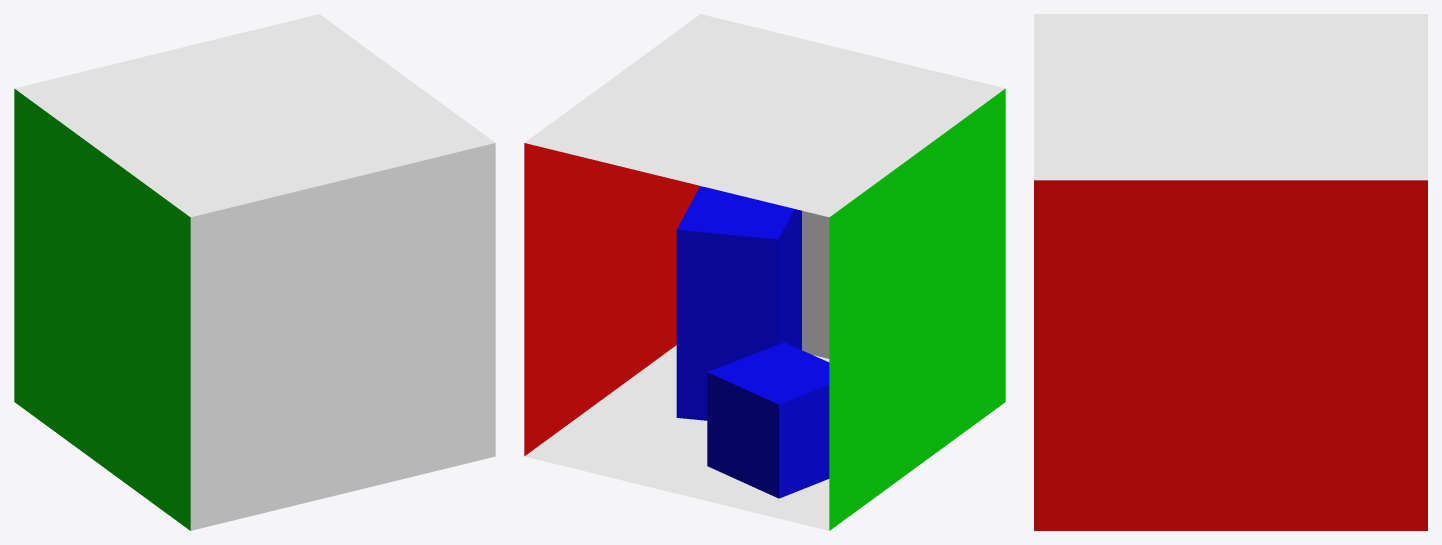
Rendered from cornell_box.obj.
3 renders of one model, left to right at view 1: azimuth 30°, elevation 25°; view 2: azimuth 150°, elevation 25°; view 3: azimuth 270°, elevation 25°, orthographic. The views are drawn at different scales.
Visible parts, largest first — view 1: back_wall, green_wall, ceiling; view 2: green_wall, ceiling, red_wall, tall_block, floor, short_block, back_wall; view 3: red_wall, ceiling.
Boxes of the visible parts, x1=… form: back_wall: x1=190, y1=143, x2=495, y2=530; green_wall: x1=14, y1=88, x2=190, y2=530; ceiling: x1=14, y1=14, x2=494, y2=217; green_wall: x1=829, y1=88, x2=1005, y2=530; ceiling: x1=525, y1=14, x2=1005, y2=217; red_wall: x1=524, y1=143, x2=700, y2=456; tall_block: x1=676, y1=186, x2=801, y2=420; floor: x1=524, y1=345, x2=829, y2=530; short_block: x1=707, y1=342, x2=829, y2=498; back_wall: x1=700, y1=186, x2=829, y2=358; red_wall: x1=1034, y1=180, x2=1427, y2=530; ceiling: x1=1034, y1=14, x2=1427, y2=180.
Size of the model in its own units: 560 by 550 by 560.
